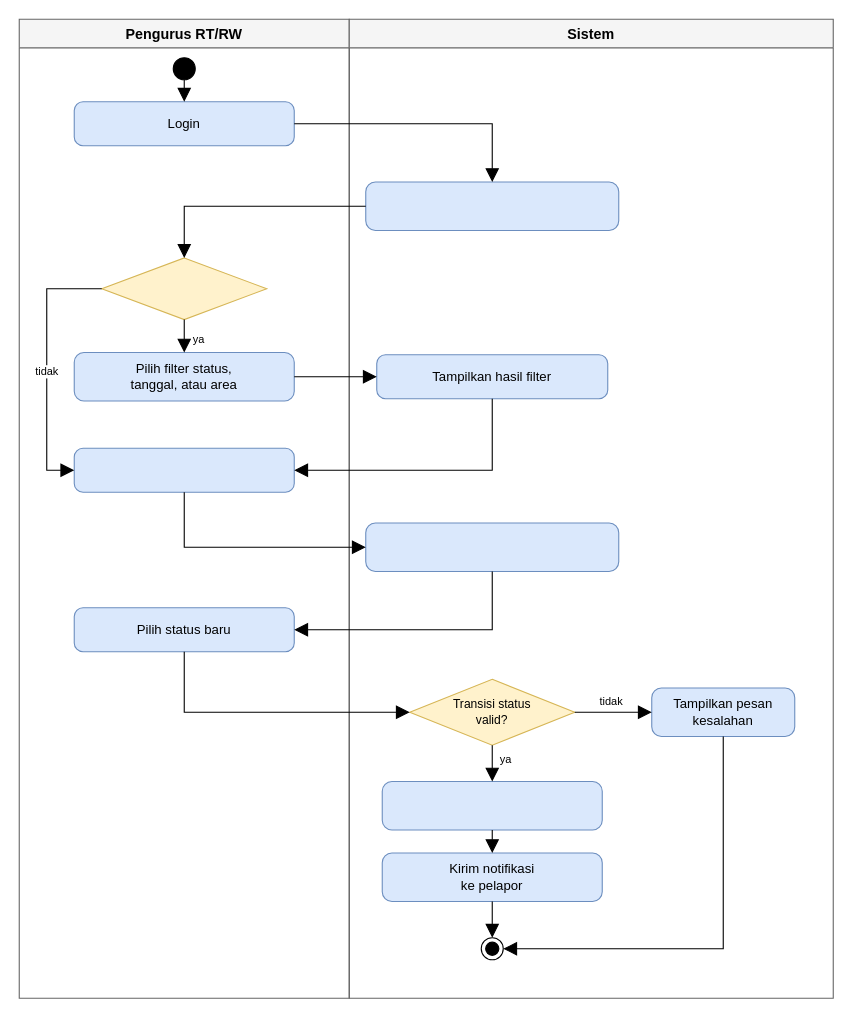
Some shapes in this 853 by 1018 pixel diagram are drawn without their labels. The centre of each missing label's shape, as x and y in pixels:
Perbarui status dan simpan riwayat: pixel 491 805
Perlu filter?: pixel 184 288
Pilih laporan: pixel 183 469
Tampilkan daftar laporan (identitas "Warga #xx"): pixel 492 205
Tampilkan detail laporan (deskripsi, foto, peta): pixel 492 546
